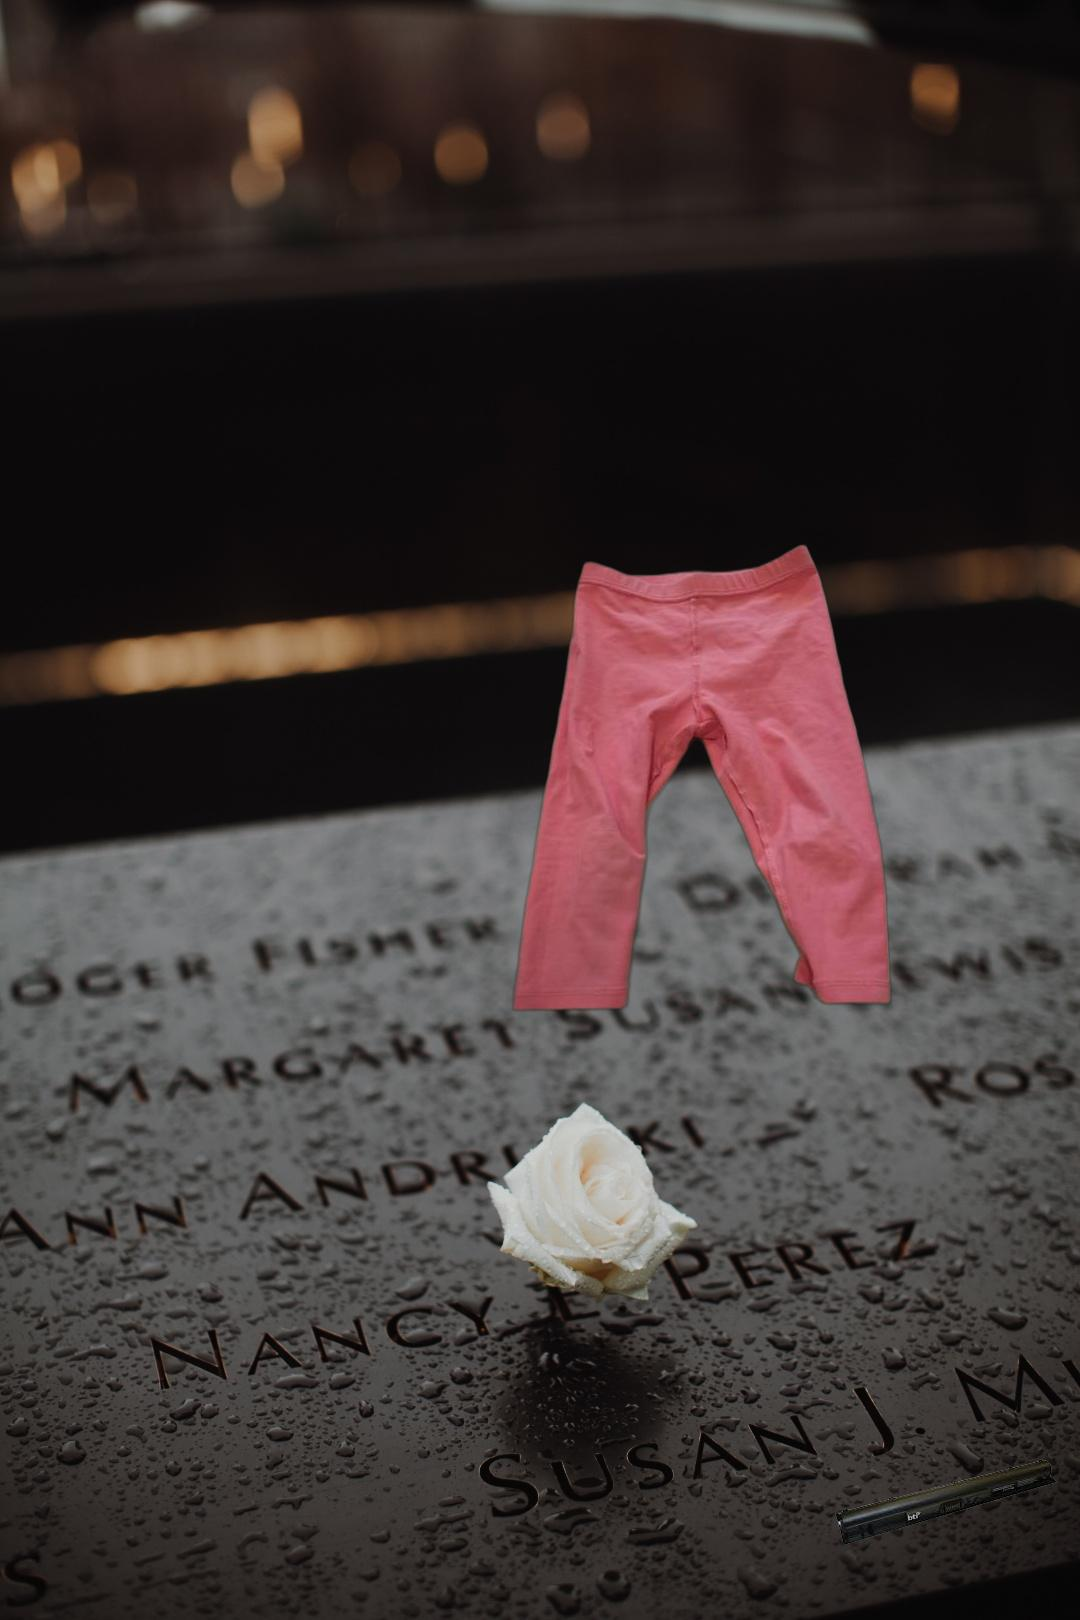battery: (834, 1457, 1060, 1548)
clothes: (507, 540, 906, 1074)
